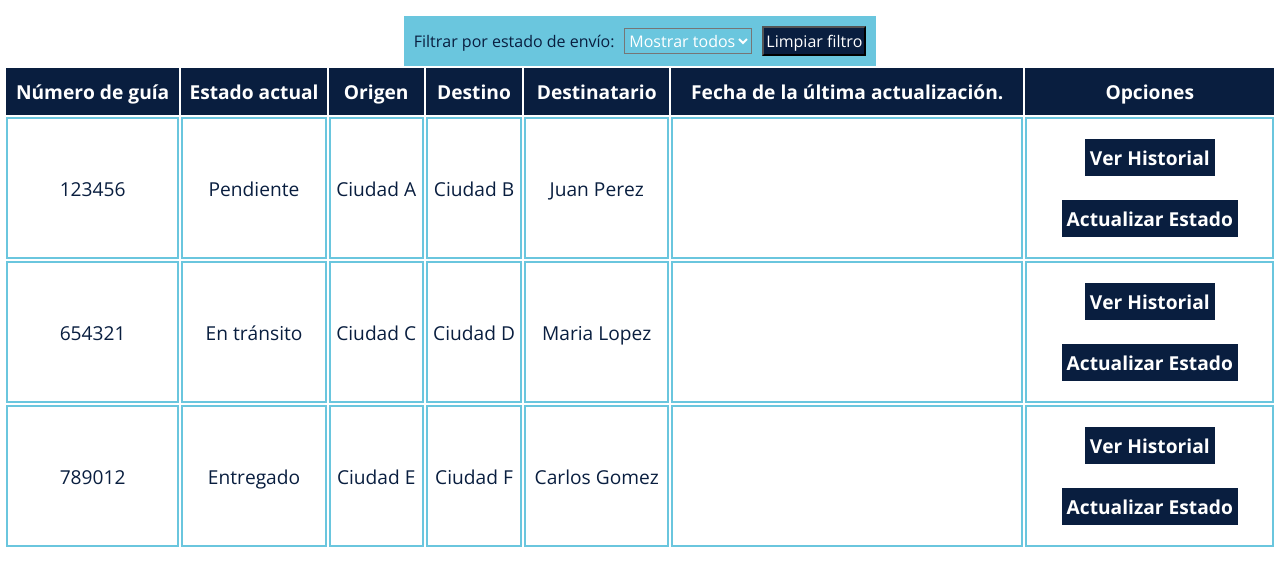
it: GuidesList › should filter guides by status
Note: Set the value to filter by "Pendiente"
Select "Pendientes" in the dropdown at [688, 41], box [624, 28, 752, 54]
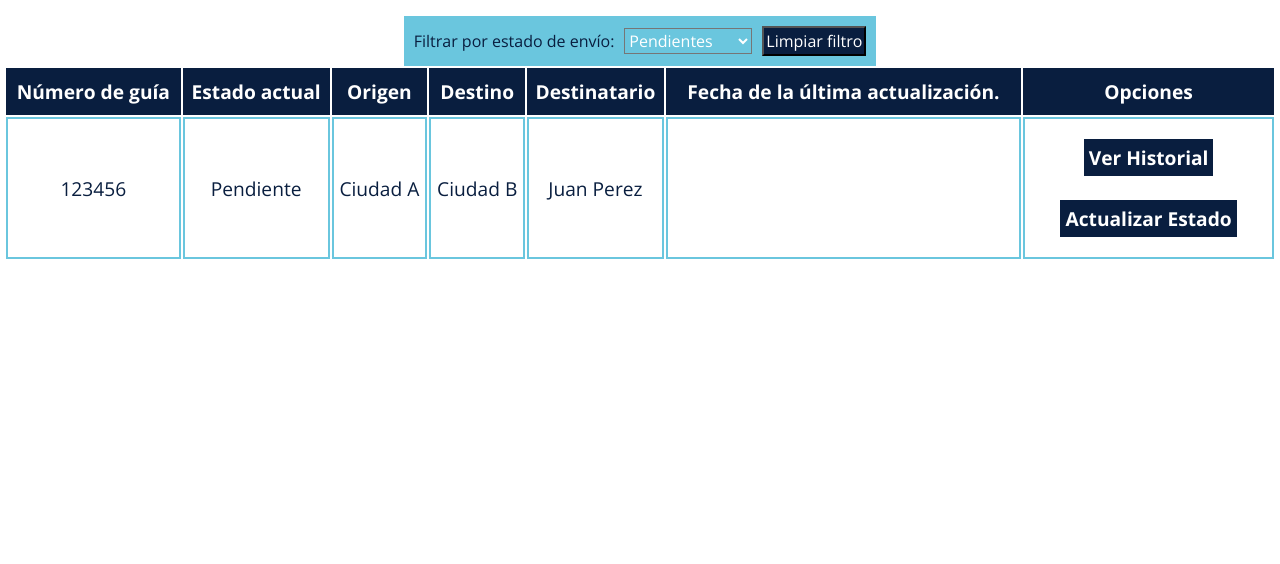
Expected: the row that starts with "Pendiente" is shown, [211, 175, 302, 202]
Note: set the value to filter by "En tránsito"
Select "En tránsito" in the dropdown at [688, 41], box [624, 28, 752, 54]
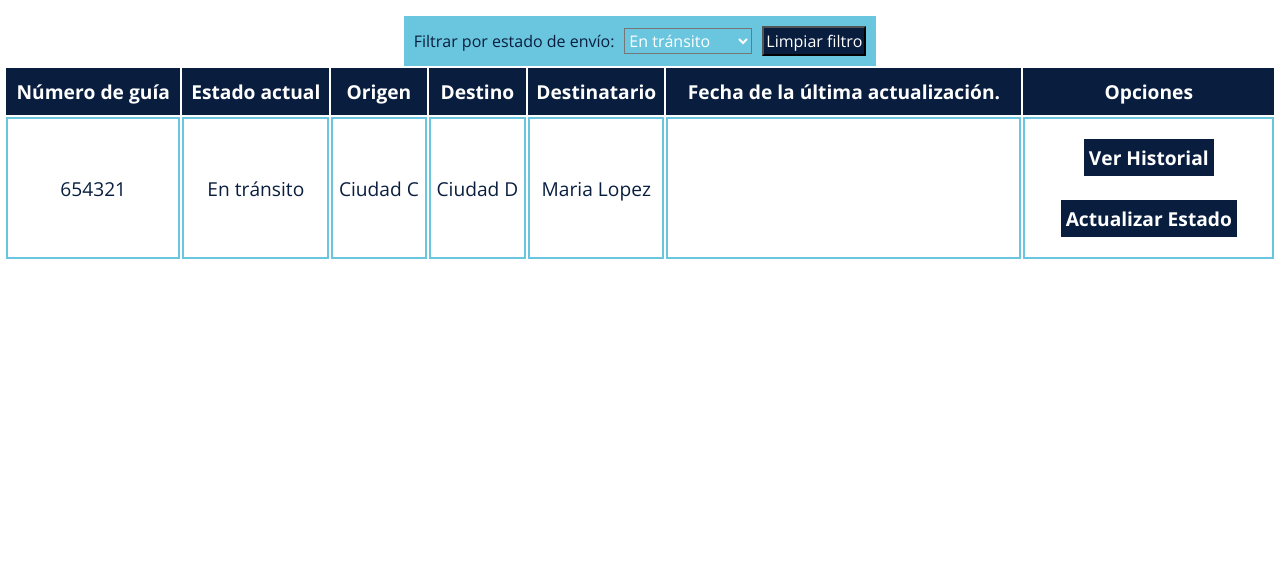
Now the row that starts with "En tránsito" is shown, box [207, 175, 304, 202]
Note: set the value to filter by "Entregado"
Select "Entregados" in the dropdown at [688, 41], box [624, 28, 752, 54]
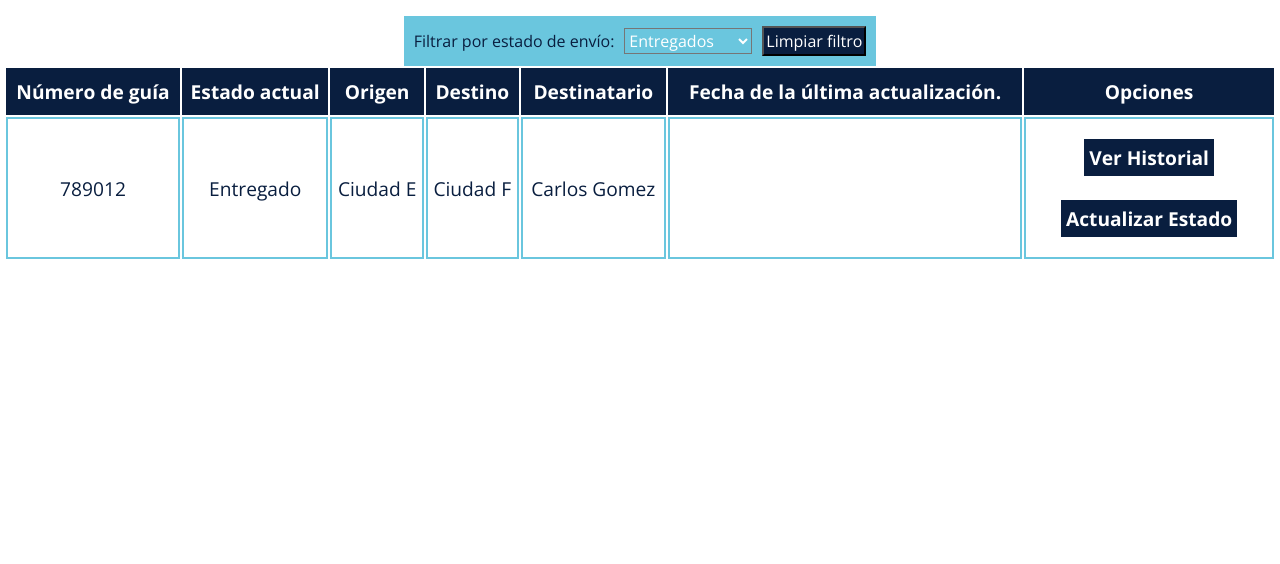
Now the row that starts with "Entregado" is shown, box [209, 175, 301, 202]
